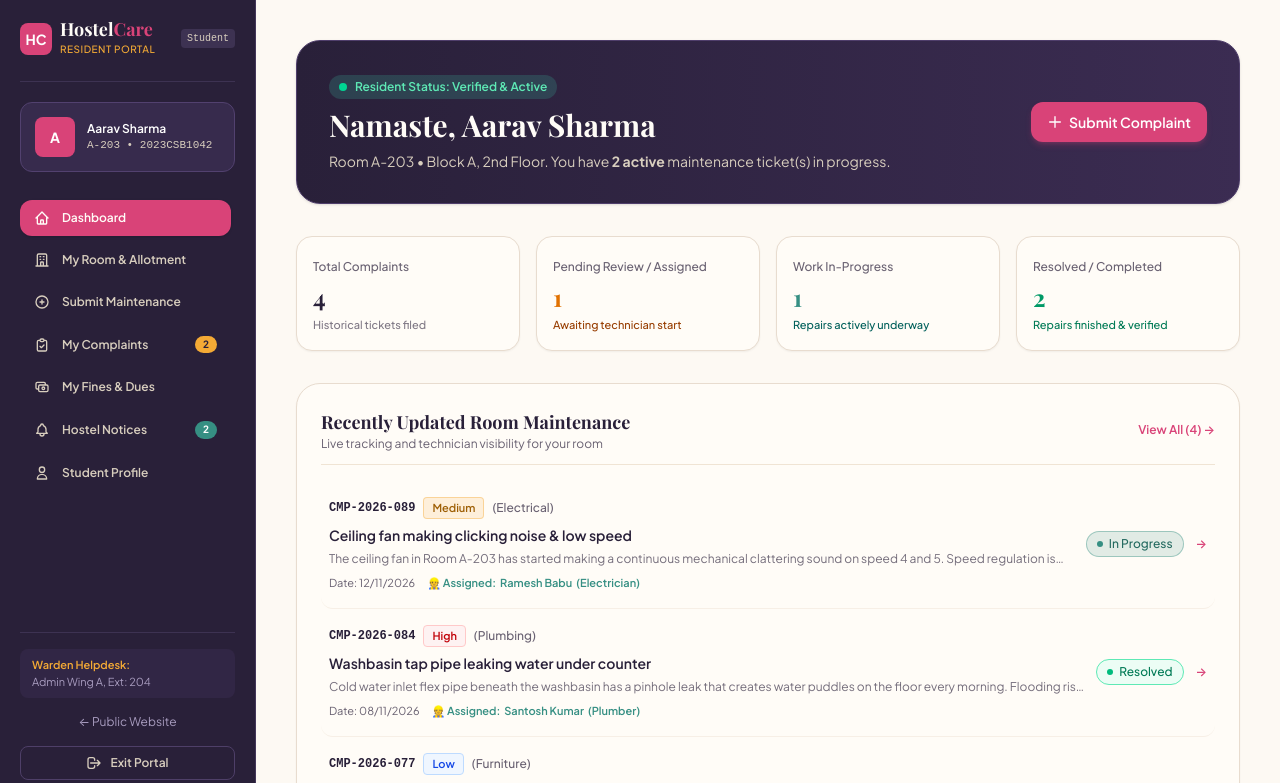
Test case: HostelCare Multi-Page Application & Phase 3C Authentication › handles logout and clears authenticated session
The width and height of the screenshot is (1280, 783).
Expected: the heading "Namaste, Aarav Sharma" is shown, [329,105,656,145]
What coordinates should you click on to do the following:
click the button "Exit Portal"
I would click on:
 (128, 763)
Its box is [20,746,235,780].
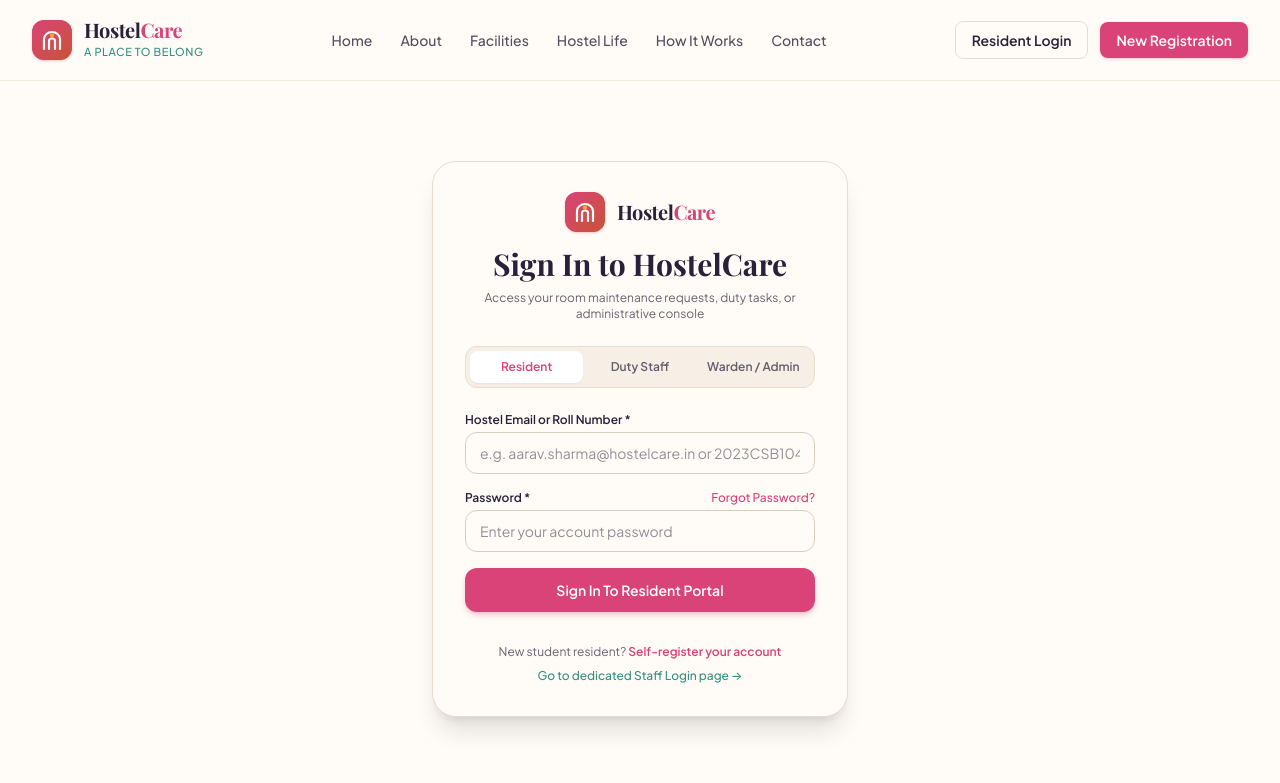
Now the heading "Sign In to HostelCare" is shown, box [493,244,787,284]
